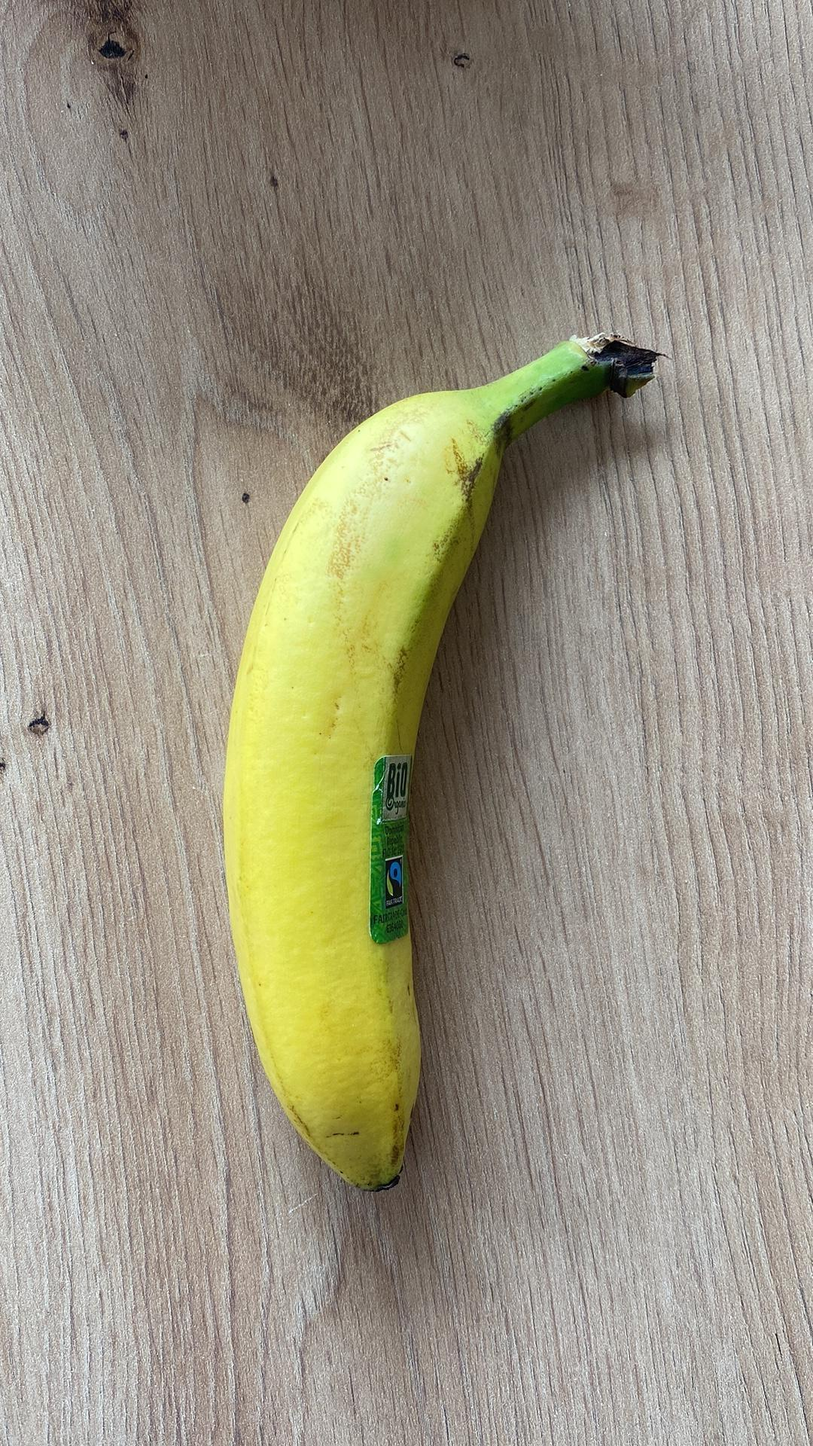banana: (203, 309, 662, 1207)
